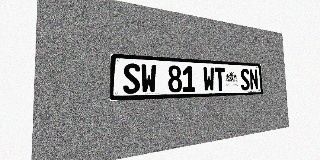1: (182, 66, 195, 92)
8: (168, 65, 182, 93)
N: (249, 69, 259, 90)
S: (123, 63, 140, 94), (240, 68, 250, 90)
T: (214, 67, 226, 91)
W: (141, 64, 157, 93), (203, 67, 215, 91)
